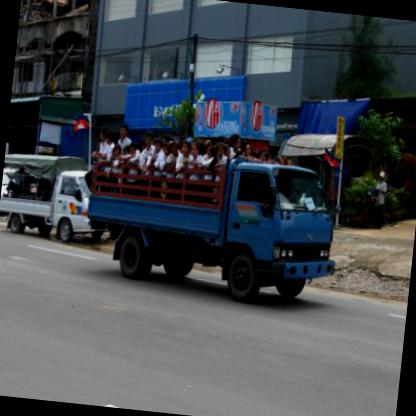truck: (59, 134, 353, 308), (0, 148, 113, 247)
